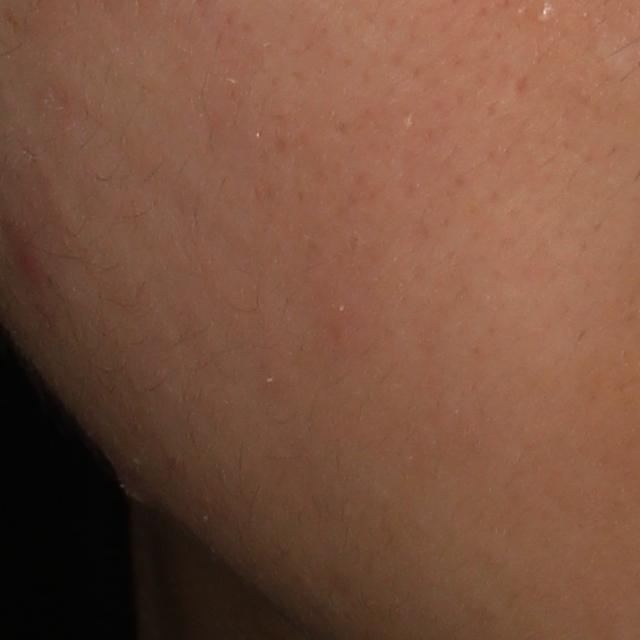comedo: (533, 2, 553, 27)
papule: (17, 252, 37, 276)
